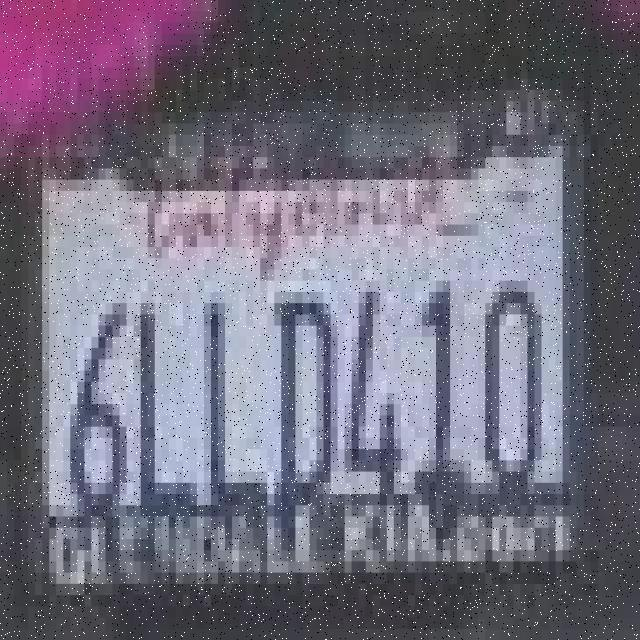LicensePlate: (38, 146, 603, 603)
